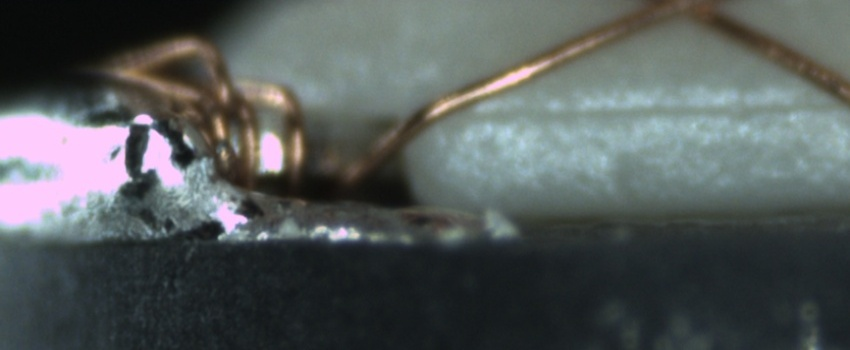CL: (630, 1, 726, 29)
DL: (450, 79, 850, 149)
TE: (93, 20, 320, 200)
